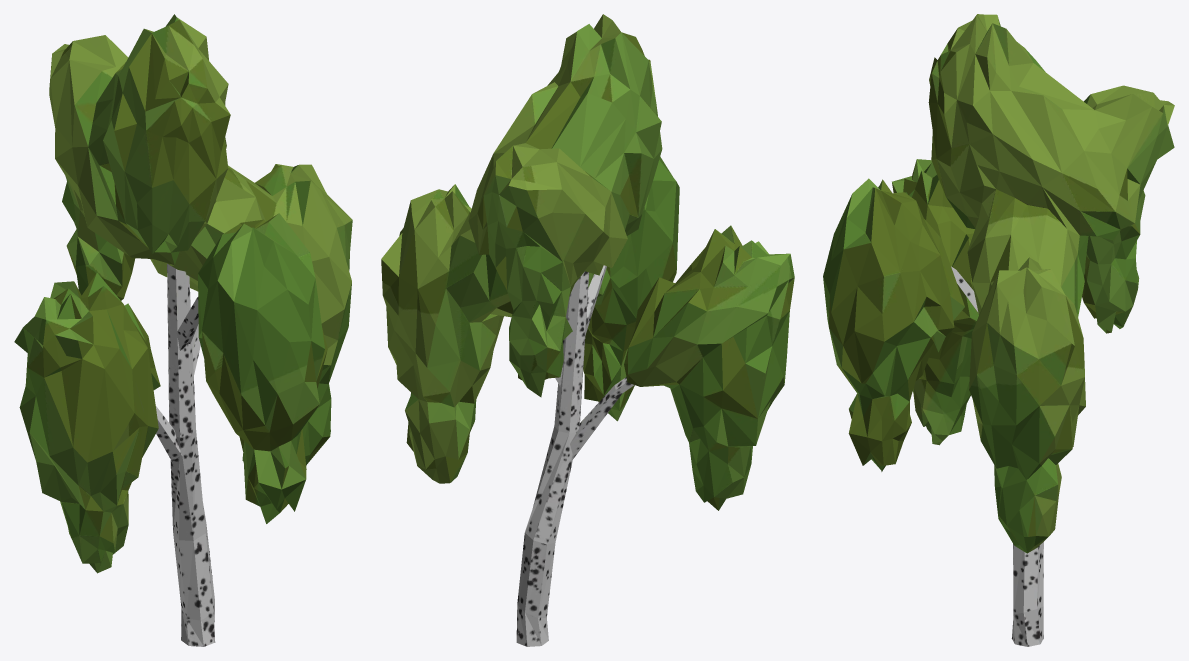
The model's file is tree8.glb.
3 views of the same model, side by side, from view 1: azimuth 30°, elevation 25°; view 2: azimuth 150°, elevation 25°; view 3: azimuth 270°, elevation 25° (orthographic). The views are drawn at different scales.
Visible parts, largest first — view 1: geometry_0; view 2: geometry_0; view 3: geometry_0.
Boxes of the visible parts, x1,y1,x2,y2 form: geometry_0: [14, 14, 352, 646]; geometry_0: [381, 14, 794, 646]; geometry_0: [823, 14, 1174, 646].
Size of the model in its own units: 1.16 by 1.97 by 1.04.
1 material, 1 textured.
